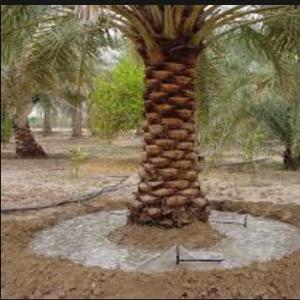palm tree: (70, 3, 289, 228)
